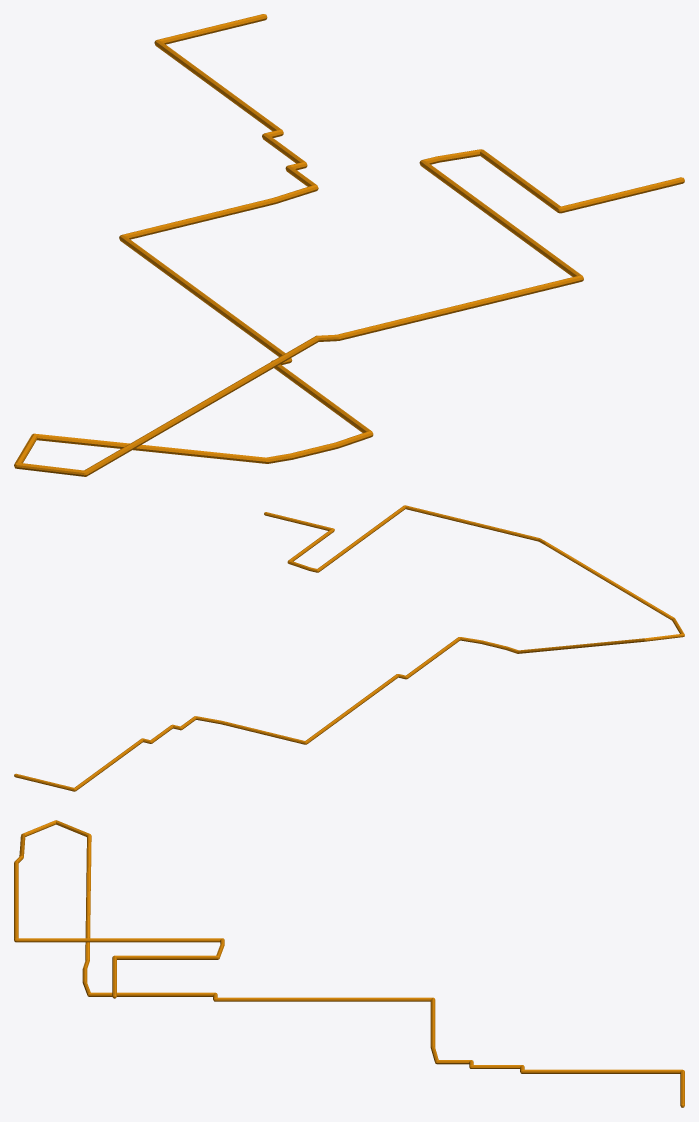
The picture shows the model from 3 angles, top to bottom: view 1: azimuth 30°, elevation 25°; view 2: azimuth 150°, elevation 25°; view 3: azimuth 270°, elevation 25°; orthographic projection. The views are drawn at different scales.
Size of the model in its own units: 2412 by 520 by 2929.
